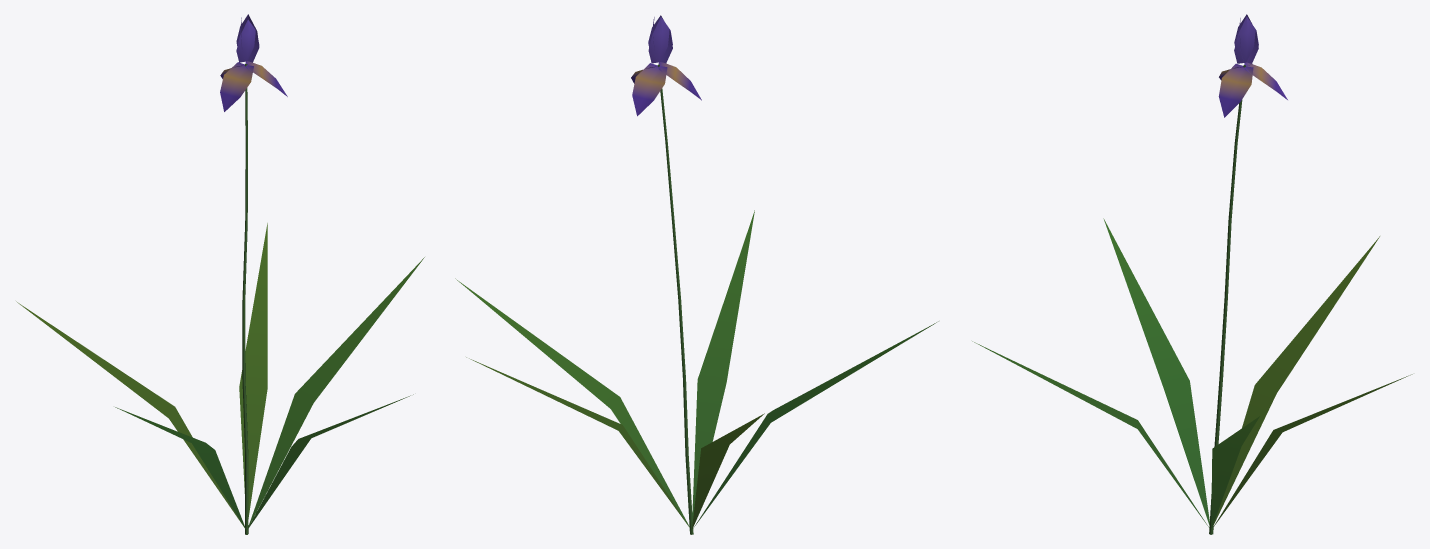
The model's file is flower-iris-a.lod0.glb.
The picture shows the model from 3 angles, left to right: view 1: azimuth 30°, elevation 25°; view 2: azimuth 150°, elevation 25°; view 3: azimuth 270°, elevation 25°; orthographic projection. The views are drawn at different scales.
Parts seen in each view (by area): view 1: flower-iris-a.lod0; view 2: flower-iris-a.lod0; view 3: flower-iris-a.lod0.
Part boxes in pixels (x1,y1,x2,y2): flower-iris-a.lod0: (16,14,424,534); flower-iris-a.lod0: (455,15,938,534); flower-iris-a.lod0: (972,14,1412,534).
Size of the model in its own units: 0.6284 by 0.7771 by 0.5955.
